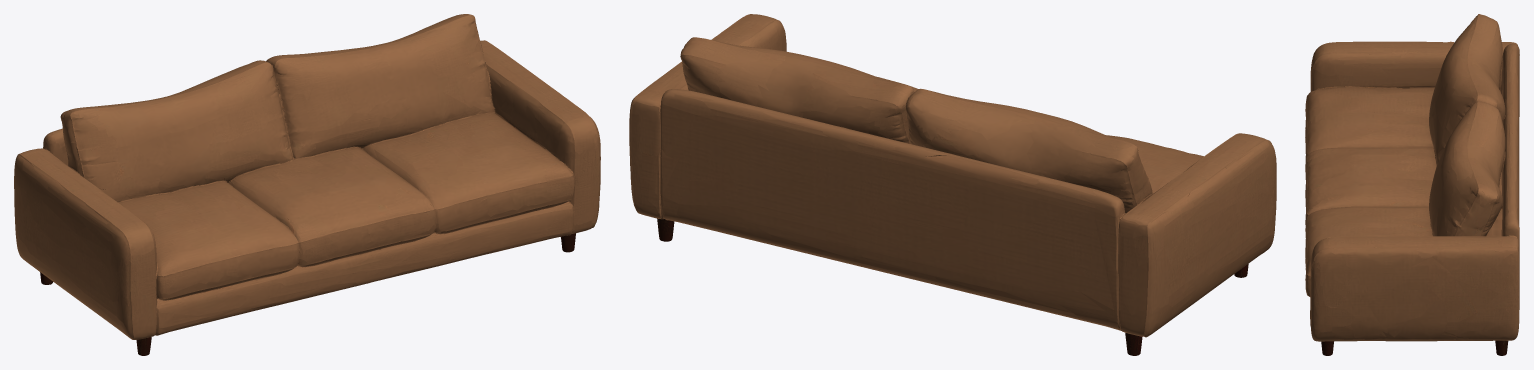
The picture shows the model from 3 angles, left to right: view 1: azimuth 30°, elevation 25°; view 2: azimuth 150°, elevation 25°; view 3: azimuth 270°, elevation 25°; orthographic projection. The views are drawn at different scales.
Parts seen in each view (by area): view 1: Mesh_0; view 2: Mesh_0; view 3: Mesh_0.
Boxes of the visible parts, <box> form: Mesh_0: <box>14,14,600,355</box>; Mesh_0: <box>629,14,1276,355</box>; Mesh_0: <box>1305,14,1519,355</box>.
Size of the model in its own units: 2.1 by 0.75 by 0.9.
Materials: 1 (1 with a texture image).
